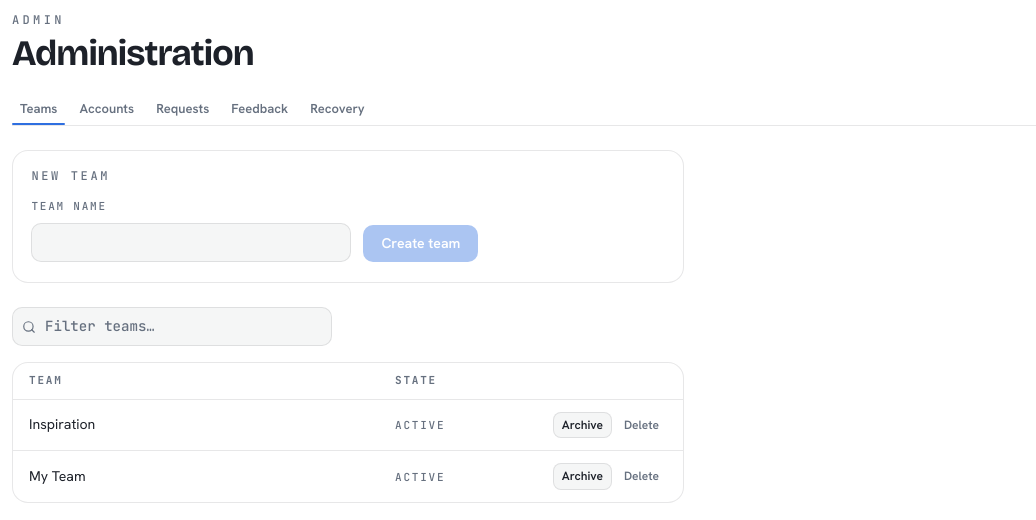
AdminPage › the Teams tab filters its rows by the search field
The image size is (1036, 520).
Expected: the text "My Team" is shown, 13,451 -> 379,502
Click the tab "Teams". click: [39, 110]
box: 12,96 -> 65,125
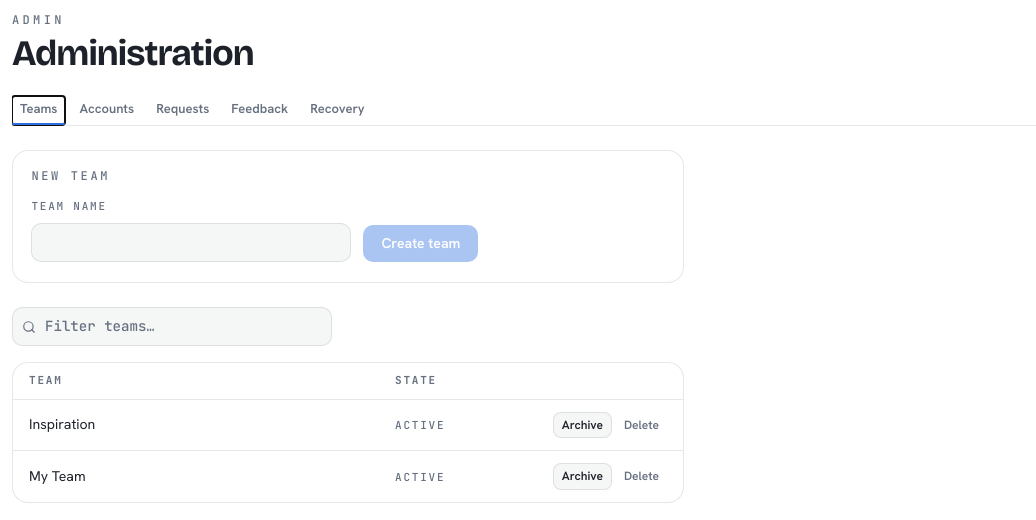
Expected: the text "My Team" is shown, 13,451 -> 379,502
Type "insp" into the field labelled "Filter teams…". click: [172, 327]
box: 12,307 -> 332,346
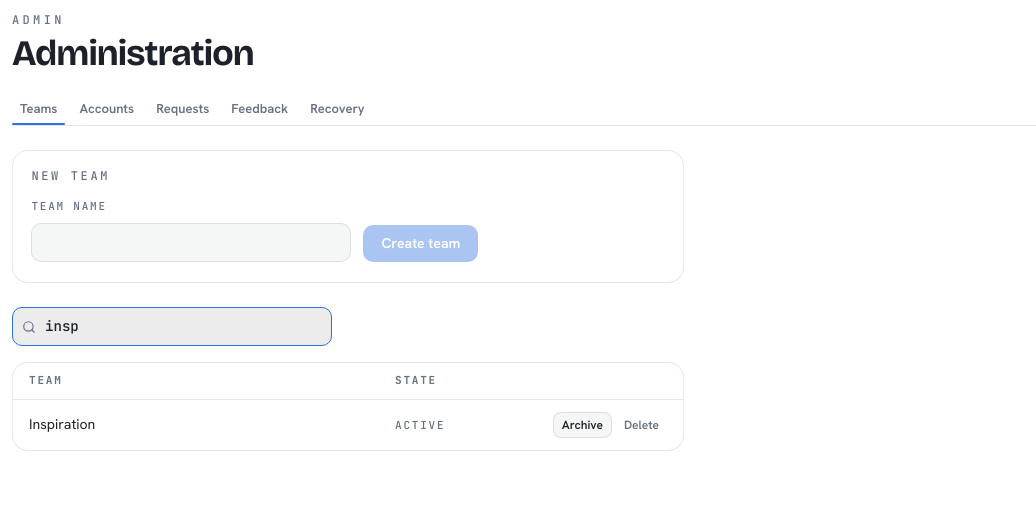
Expected: the text "Inspiration" is shown, 13,399 -> 379,450
Expected: the text "My Team" is gone
